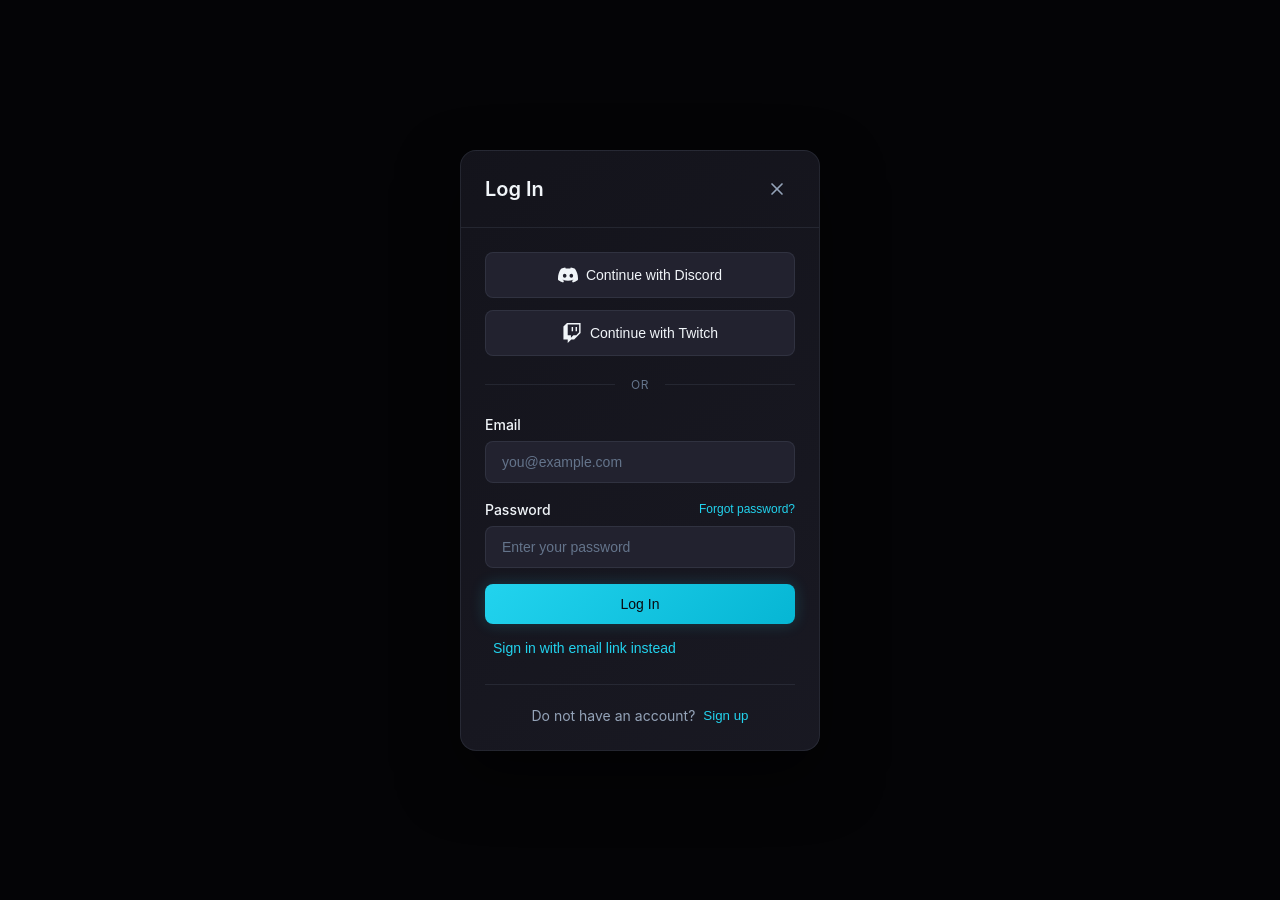
Test: LoginModal - Error Handling › should display error message when login fails with invalid credentials
// Fill in credentials
Type "test@example.com" into the field with test id "login-email-input".
click(640, 462); type("test@example.com")  # box [485,440,795,482]
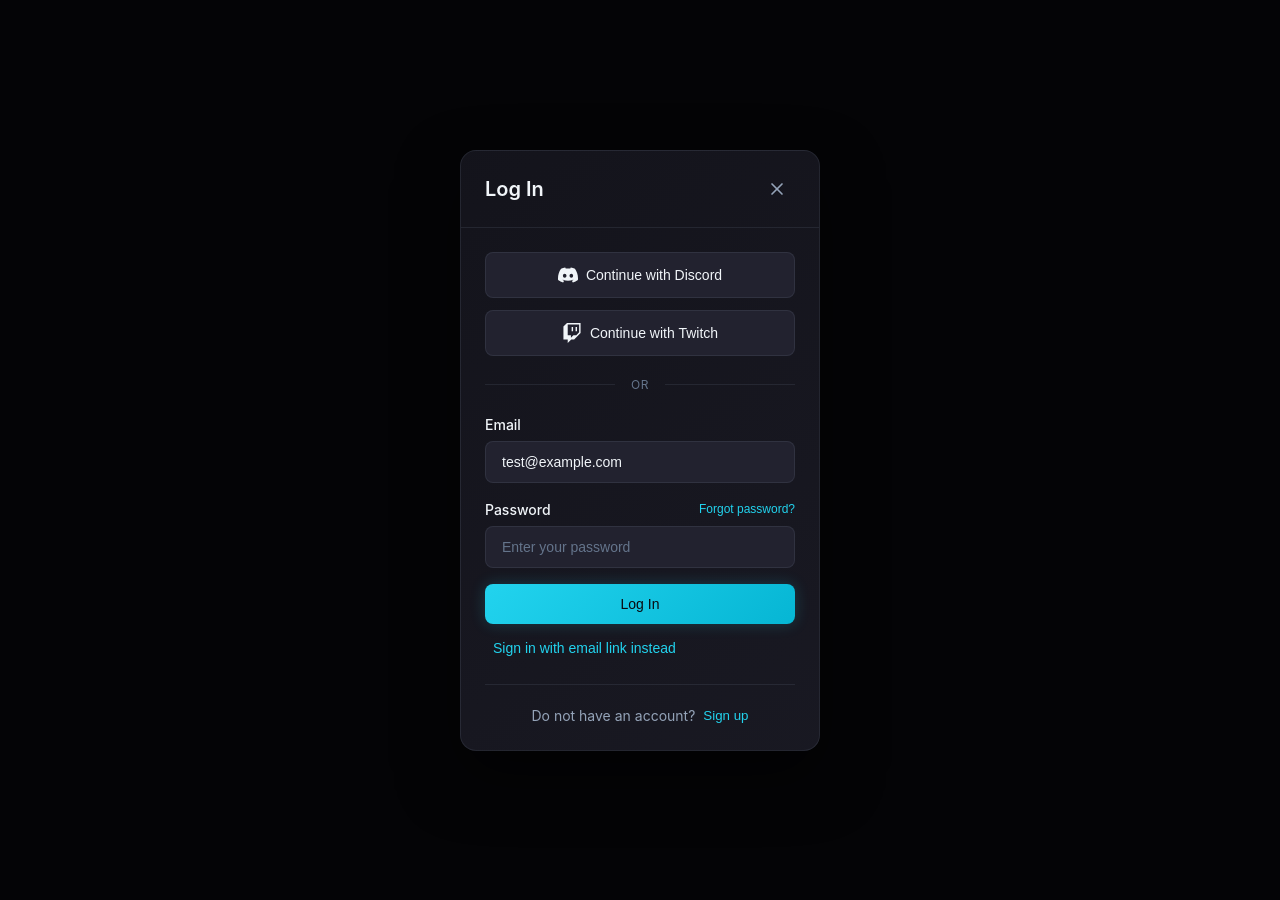
Type "wrongpassword" into the password field with test id "login-password-input".
click(640, 546); type("wrongpassword")  # box [485,526,795,568]
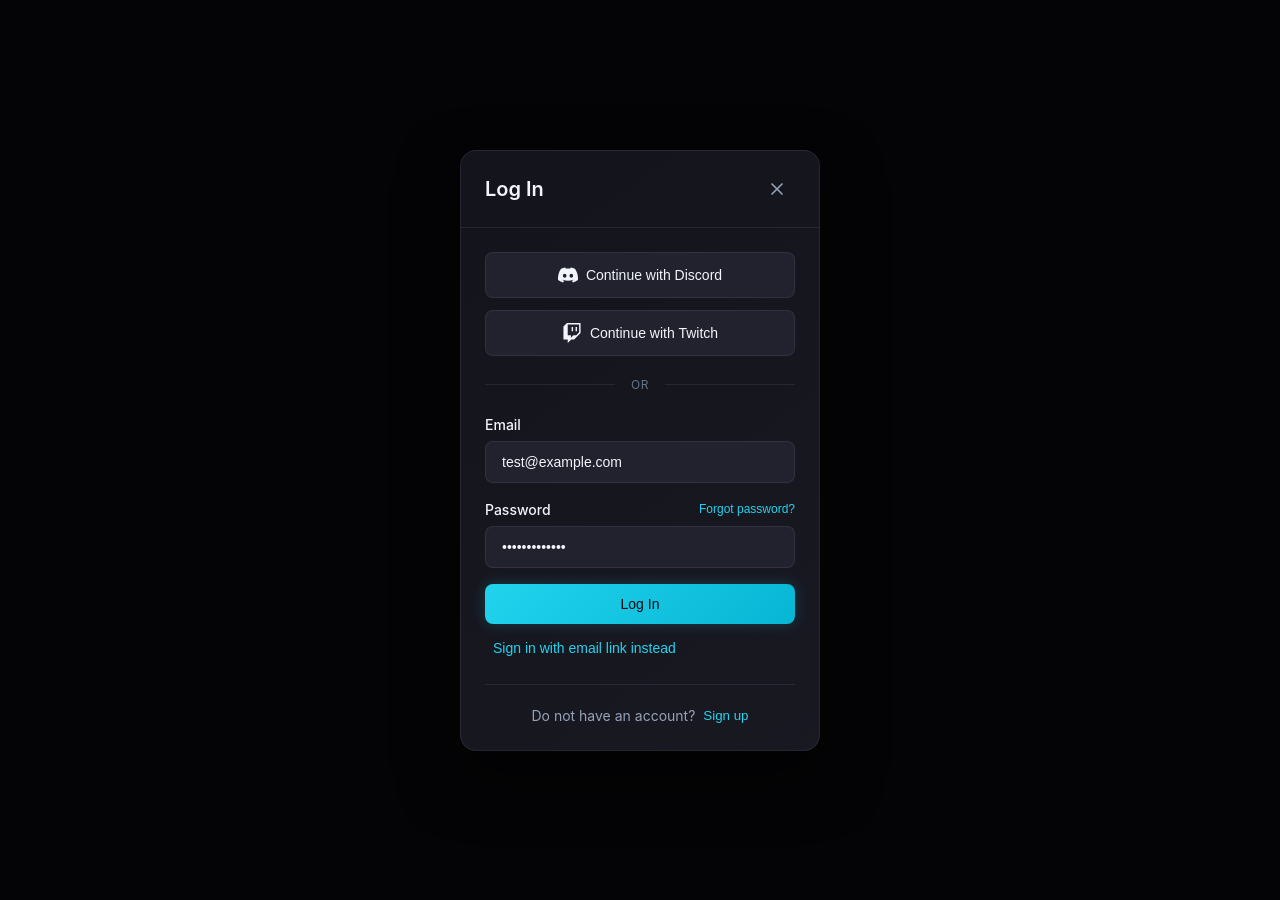
// Submit form
Click the button with test id "login-submit-button".
click(640, 604)  # box [485,584,795,624]
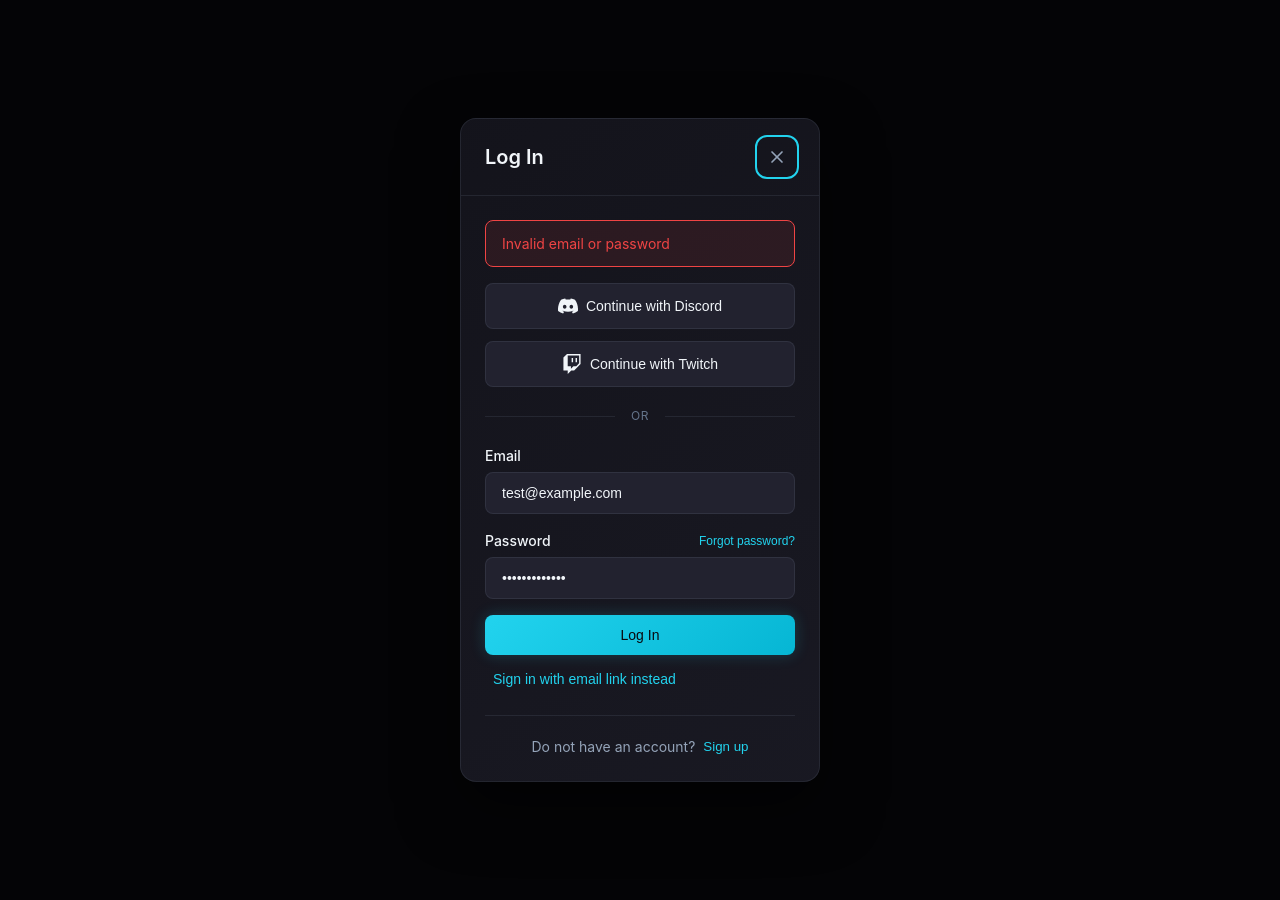
Expected: the text "Invalid email or password" is shown, [485,220,795,267]
